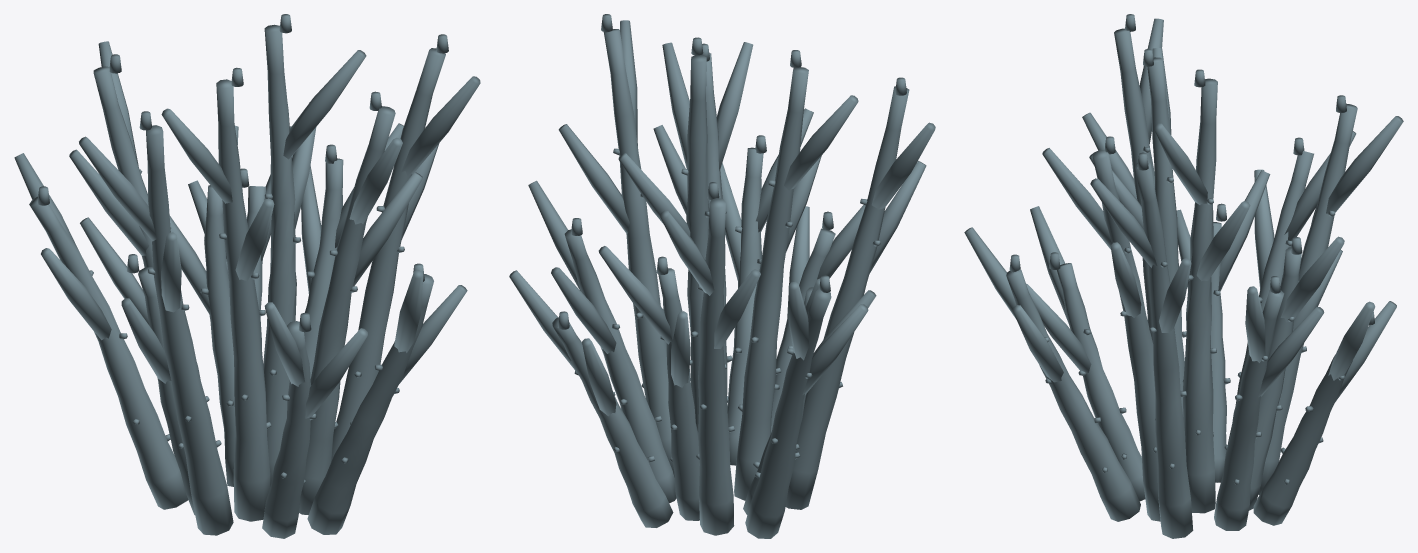
The model's file is acropora-mobile.glb.
3 renders of one model, left to right at view 1: azimuth 30°, elevation 25°; view 2: azimuth 150°, elevation 25°; view 3: azimuth 270°, elevation 25°, orthographic. The views are drawn at different scales.
Visible parts, largest first — view 1: branch, lateral-branch, axial-corallite, radial-corallite; view 2: branch, lateral-branch, axial-corallite, radial-corallite; view 3: branch, lateral-branch, axial-corallite, radial-corallite.
Part boxes in pixels (bbox=[...]): branch: bbox=[29, 24, 445, 538]; lateral-branch: bbox=[14, 41, 480, 418]; axial-corallite: bbox=[37, 14, 448, 331]; radial-corallite: bbox=[89, 169, 404, 483]; branch: bbox=[552, 29, 909, 538]; lateral-branch: bbox=[509, 20, 935, 416]; axial-corallite: bbox=[557, 14, 906, 329]; radial-corallite: bbox=[574, 148, 880, 478]; branch: bbox=[1006, 28, 1367, 538]; lateral-branch: bbox=[964, 18, 1403, 401]; axial-corallite: bbox=[1009, 14, 1374, 325]; radial-corallite: bbox=[1045, 146, 1344, 484].
Bounding box in the file's own units: 0.4865 × 0.5911 × 0.5257.
